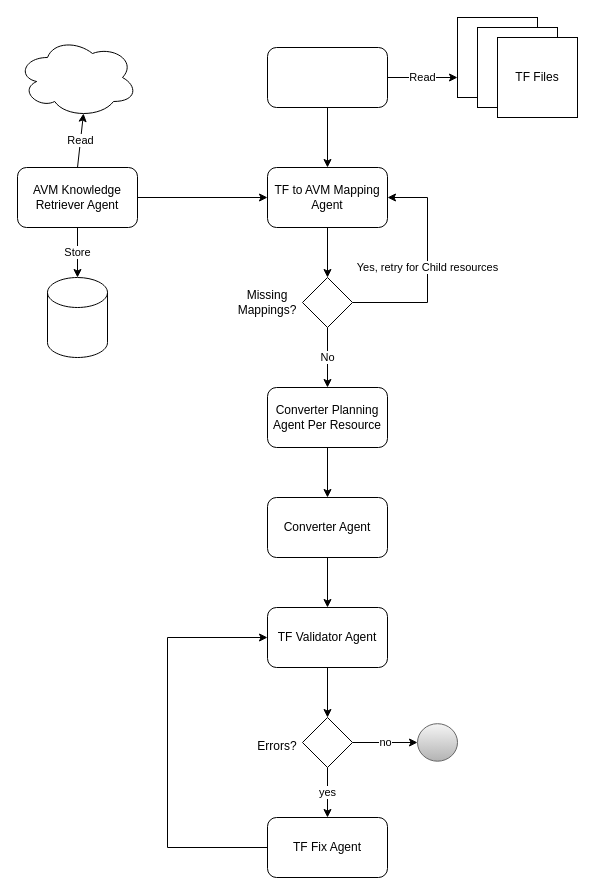
The diagram is 595 pixels wide and 895 high, and some of its shapes have lost their labels. The centre of each missing label's shape, as x and y in pixels:
AVM Details: (x=77, y=317)
AVM Docs: (x=77, y=77)
TF Metadata Agent: (x=327, y=77)
